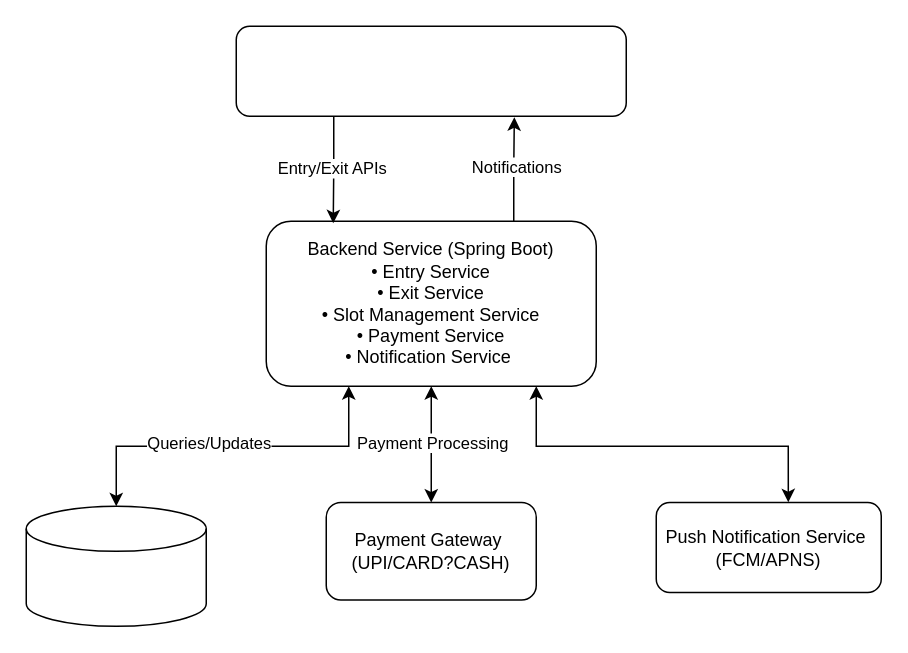
This 908x653 diagram has some shape labels left out. The shapes that lost their labels are listed below. From the top down, each one's centre as x and y in pixels, then its label:
At [430,70]: "Mobile App (User) (Check availability, buy ticket, make payment)".
At [115,565]: "Database (MySQL )".
